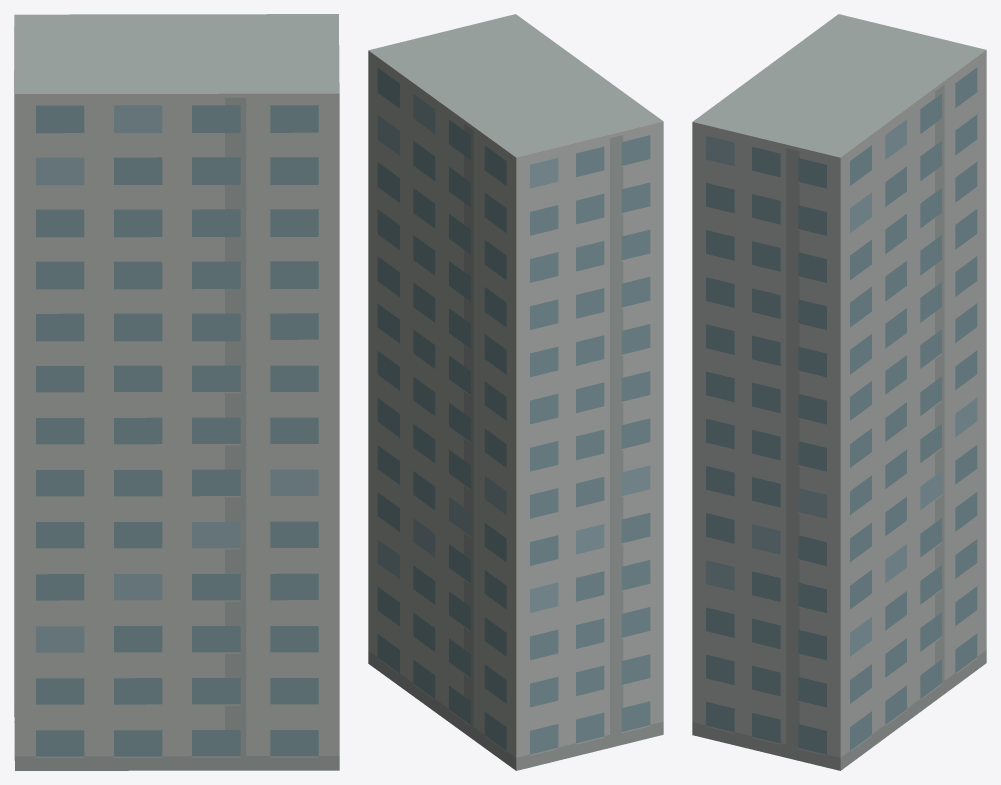
Rendered from residential-561d0ee9-5fa0-44b8-b2ec-6ceeeb9e08d5.glb.
The picture shows the model from 3 angles, left to right: view 1: azimuth 30°, elevation 25°; view 2: azimuth 150°, elevation 25°; view 3: azimuth 270°, elevation 25°; orthographic projection. The views are drawn at different scales.
Visible parts, largest first — view 1: residential-561d0ee9-5fa0-44b8-b2ec-6ceeeb9e08d5.tmp; view 2: residential-561d0ee9-5fa0-44b8-b2ec-6ceeeb9e08d5.tmp; view 3: residential-561d0ee9-5fa0-44b8-b2ec-6ceeeb9e08d5.tmp.
Boxes of the visible parts, left/top/right/bottom form: residential-561d0ee9-5fa0-44b8-b2ec-6ceeeb9e08d5.tmp: left=14, top=14, right=339, bottom=770; residential-561d0ee9-5fa0-44b8-b2ec-6ceeeb9e08d5.tmp: left=368, top=14, right=663, bottom=770; residential-561d0ee9-5fa0-44b8-b2ec-6ceeeb9e08d5.tmp: left=692, top=14, right=986, bottom=770.
Size of the model in its own units: 21.11 by 42 by 18.27.
